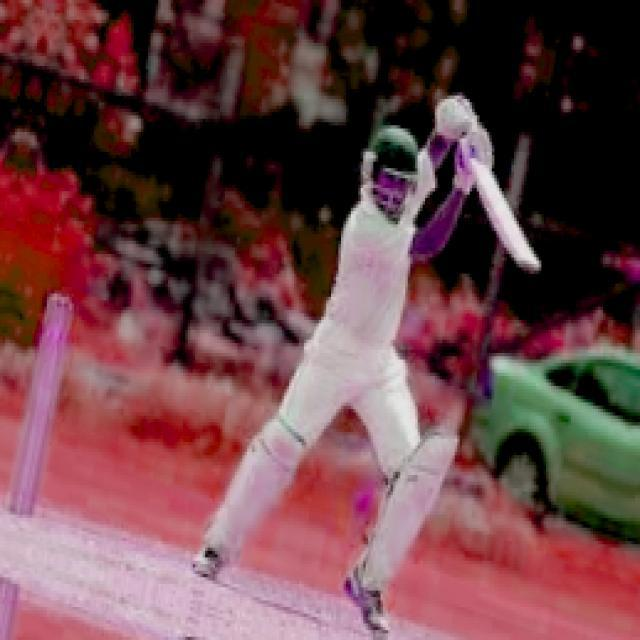bat: (458, 155, 548, 277)
toe: (514, 259, 547, 272)
